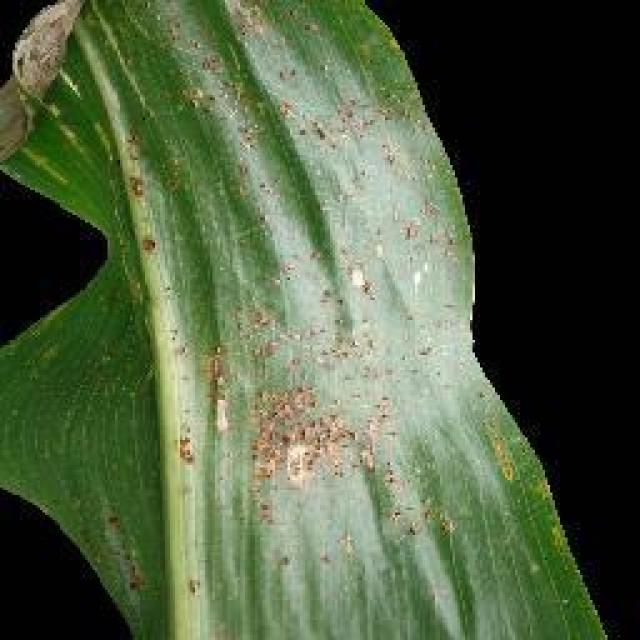Corn Common Rust: (97, 58, 560, 632)
